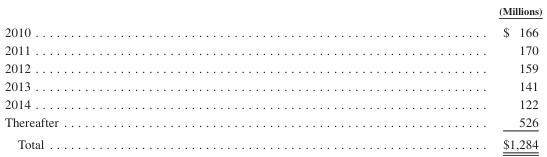table: (3, 4, 541, 151)
table column: (3, 4, 278, 151), (278, 4, 541, 151)
table column header: (3, 4, 541, 20)
table row: (3, 20, 541, 40), (3, 112, 541, 132), (3, 132, 541, 151), (3, 40, 541, 58), (3, 58, 541, 76), (3, 76, 541, 94), (3, 94, 541, 112), (3, 4, 541, 20)
